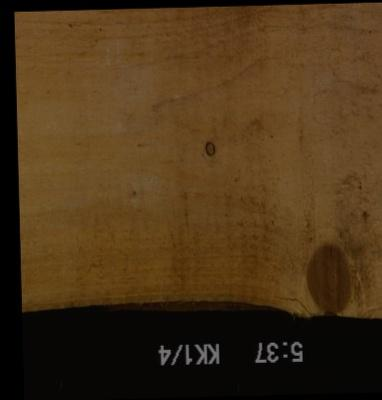dry_knot: (202, 139, 215, 156)
edge_knot: (304, 240, 351, 313)
wave: (103, 298, 275, 310)
